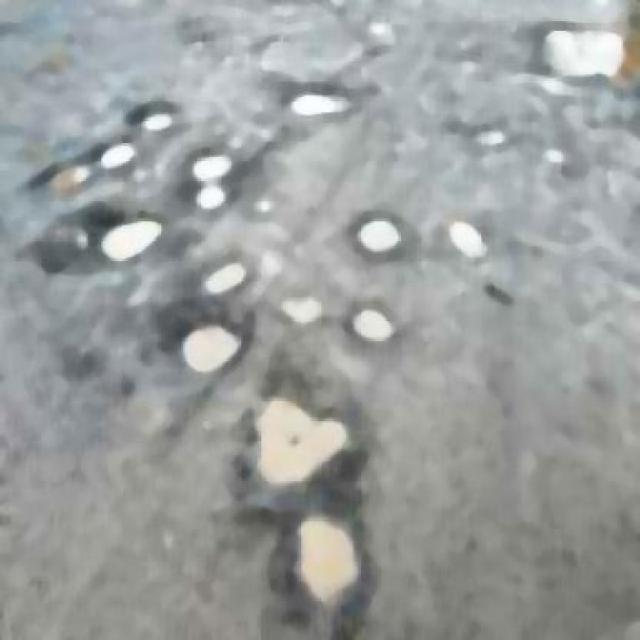Pothole: (248, 364, 350, 494), (534, 17, 638, 106), (292, 510, 366, 613), (66, 211, 182, 269), (170, 303, 235, 382), (432, 204, 492, 276), (283, 88, 360, 130), (353, 289, 395, 362), (356, 211, 407, 266), (137, 92, 181, 146), (96, 136, 136, 167)
